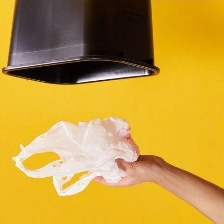plastic_bag: (8, 112, 144, 199)
